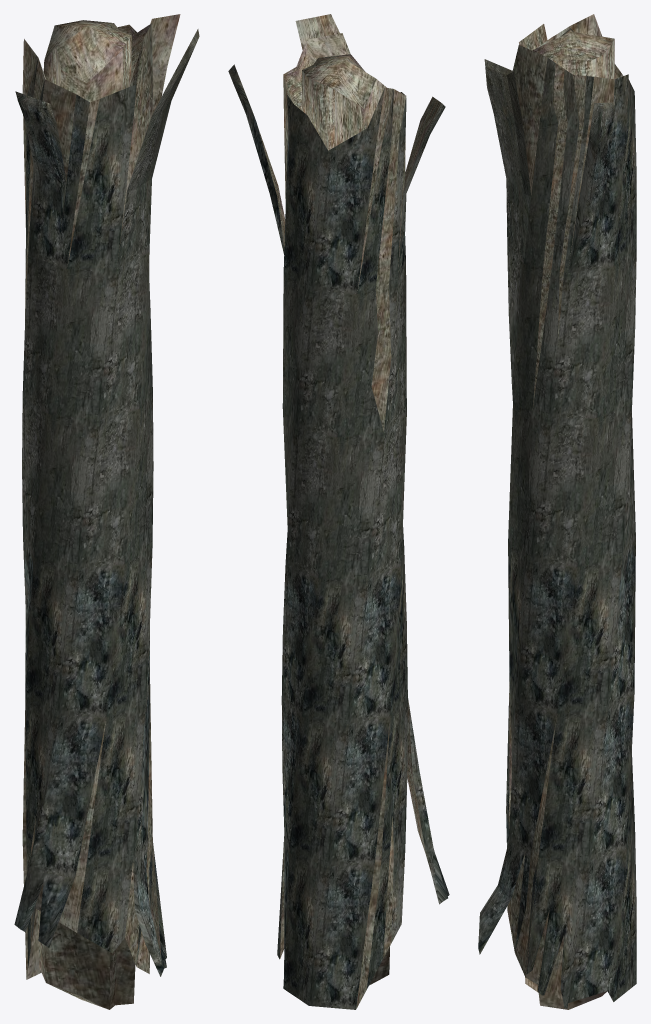
File: tree_destroyed_fallen_log_a.glb
3 views of the same model, side by side, from view 1: azimuth 30°, elevation 25°; view 2: azimuth 150°, elevation 25°; view 3: azimuth 270°, elevation 25° (orthographic). The views are drawn at different scales.
Bounding box in the file's own units: 36.67 × 174 × 25.96.
1 material, 1 textured.
